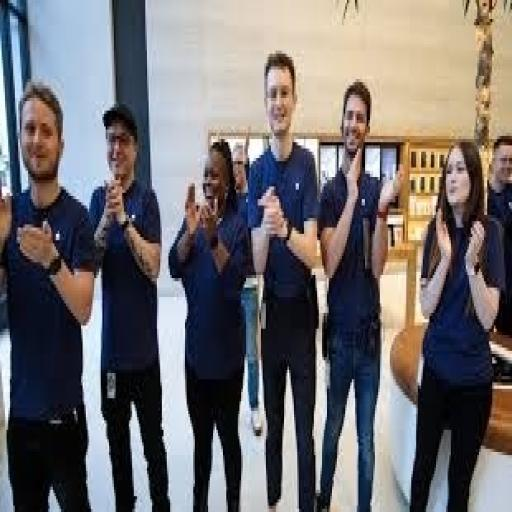clapping: (0, 79, 97, 509), (316, 76, 406, 509), (406, 136, 506, 509), (86, 98, 172, 509), (244, 47, 320, 509), (167, 136, 249, 509)
